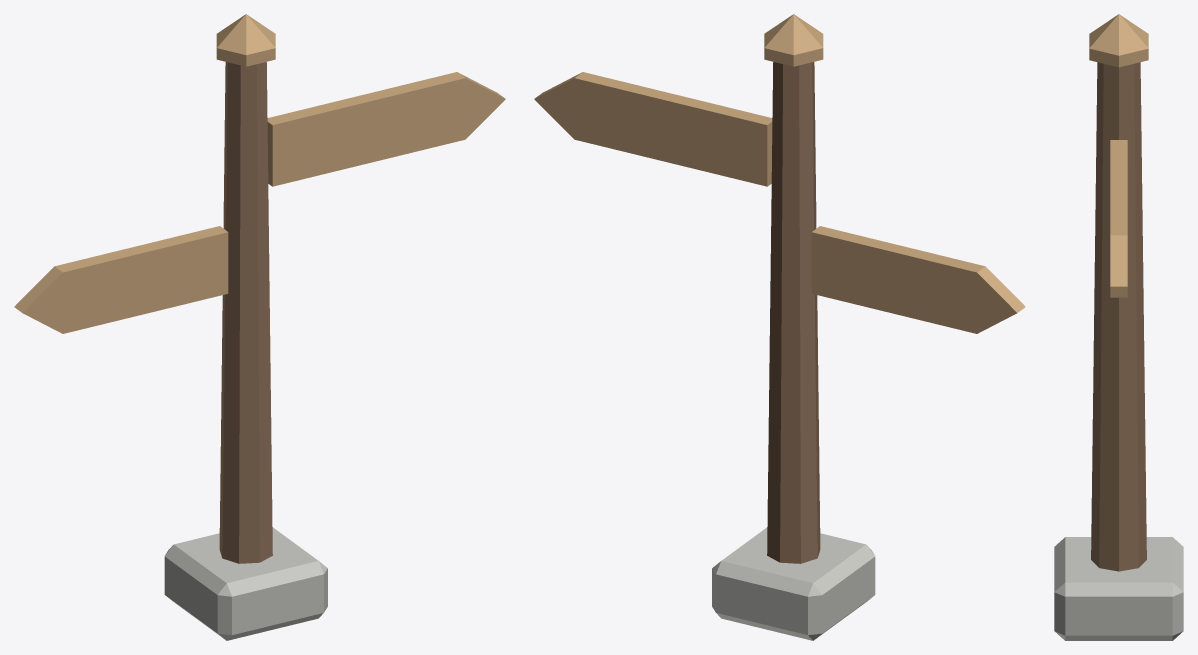
Rendered from road-signpost.glb.
3 renders of one model, left to right at view 1: azimuth 30°, elevation 25°; view 2: azimuth 150°, elevation 25°; view 3: azimuth 270°, elevation 25°, orthographic.
Parts seen in each view (by area): view 1: road-signpost; view 2: road-signpost; view 3: road-signpost.
Boxes of the visible parts, x1,y1,x2,y2 form: road-signpost: (14,14,505,640); road-signpost: (534,14,1025,640); road-signpost: (1054,14,1183,640).
Size of the model in its own units: 2.63 by 3.1 by 0.6.
